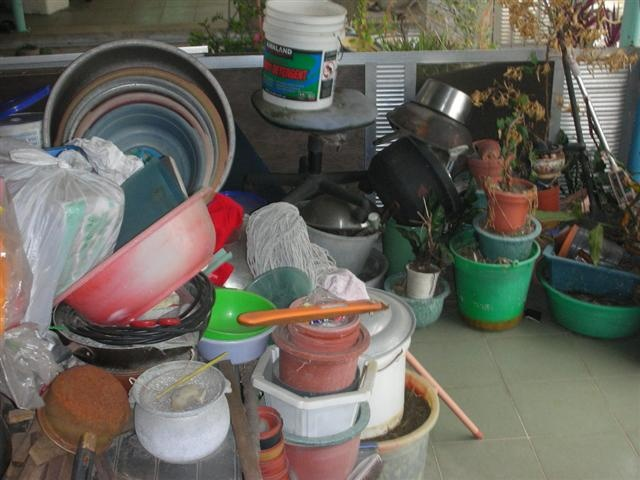bottle: (557, 222, 625, 268)
bowl: (42, 36, 237, 201), (53, 184, 218, 328), (249, 342, 374, 436), (82, 101, 205, 191), (132, 359, 230, 462), (370, 135, 463, 224), (36, 367, 130, 453), (537, 266, 640, 341), (385, 101, 474, 147), (199, 324, 279, 366), (410, 77, 473, 122)
box: (542, 244, 640, 298)
bucket: (262, 1, 348, 112), (448, 231, 542, 332), (300, 196, 358, 228)
